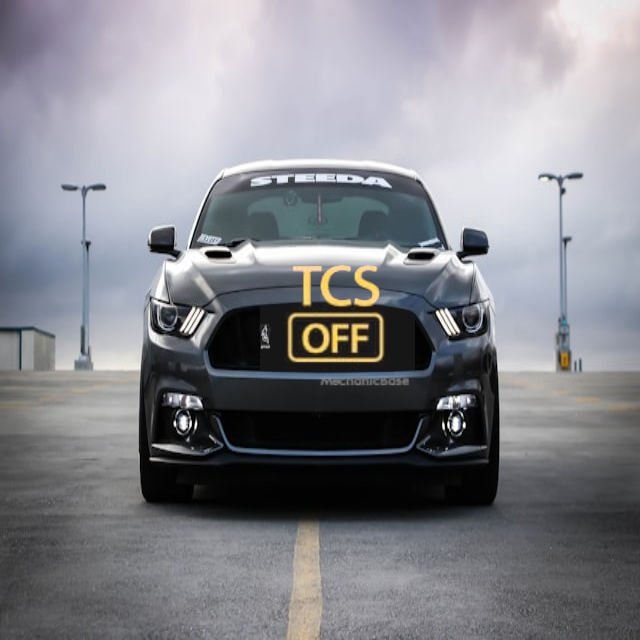symbol: (260, 238, 415, 393)
